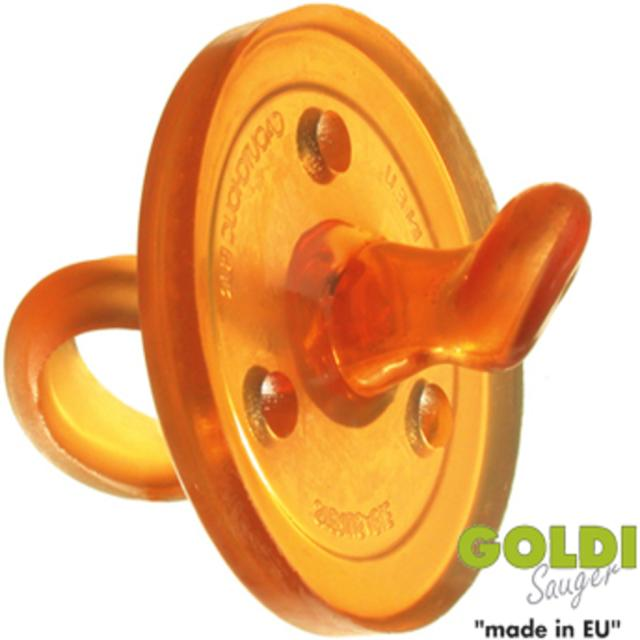Toy: (4, 4, 592, 637)
